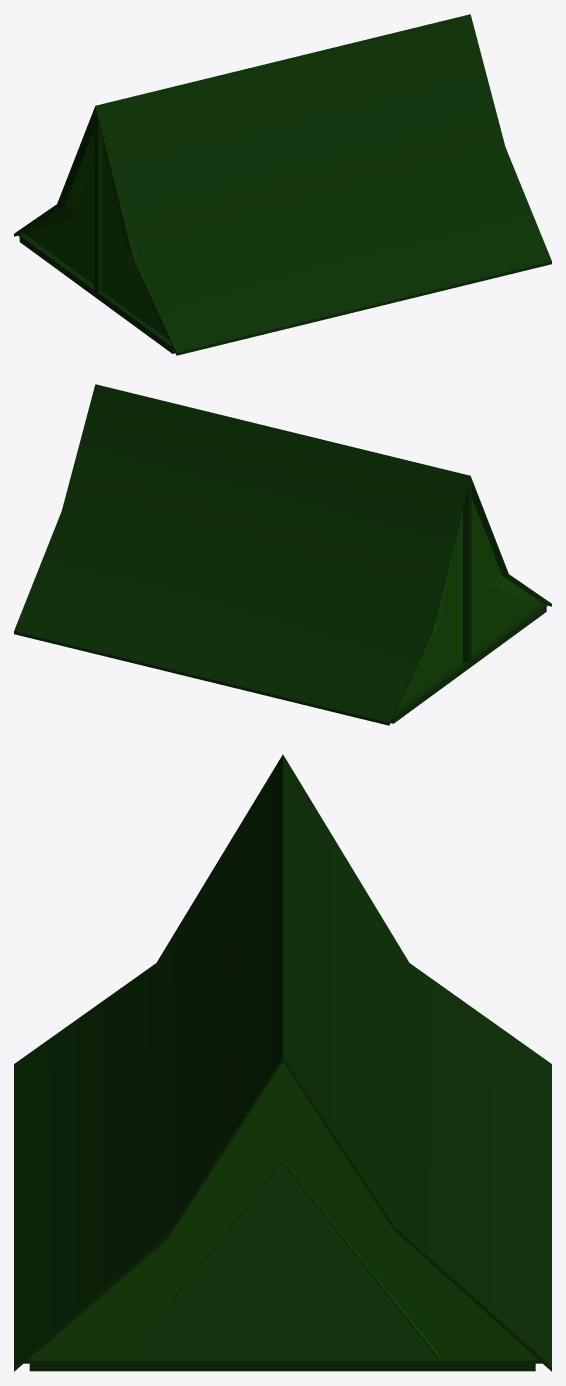
The model's file is Tent-groen-nieuw.fbx.
3 views of the same model, one above another, from view 1: azimuth 30°, elevation 25°; view 2: azimuth 150°, elevation 25°; view 3: azimuth 270°, elevation 25° (orthographic). The views are drawn at different scales.
Visible parts, largest first — view 1: pCube1, pasted__polySurface1, polySurface1, pCube2, pCube3, pasted__pCube1; view 2: pasted__pCube1, polySurface1, pasted__polySurface1, pCube2, pCube3, pCube1; view 3: pCube1, pasted__pCube1, pCube4, pasted__pasted__polySurface1, pasted__polySurface1, pasted__pCube2, pasted__pPipe1.
Boxes of the visible parts, x1,y1,x2,y2 form: pCube1: [95, 14, 551, 355]; pasted__polySurface1: [22, 130, 94, 284]; polySurface1: [102, 138, 169, 340]; pCube2: [19, 234, 174, 353]; pCube3: [94, 113, 102, 292]; pasted__pCube1: [14, 15, 464, 236]; pasted__pCube1: [14, 384, 470, 725]; polySurface1: [472, 499, 543, 654]; pasted__polySurface1: [397, 510, 462, 709]; pCube2: [391, 604, 546, 723]; pCube3: [463, 483, 471, 662]; pCube1: [101, 385, 551, 606]; pCube1: [14, 754, 282, 1371]; pasted__pCube1: [283, 754, 551, 1371]; pCube4: [24, 1163, 542, 1363]; pasted__pasted__polySurface1: [281, 1062, 537, 1359]; pasted__polySurface1: [30, 1063, 283, 1358]; pasted__pCube2: [29, 1355, 535, 1371]; pasted__pPipe1: [282, 1161, 441, 1358].
Size of the model in its own units: 11.94 by 5.88 by 8.97.
